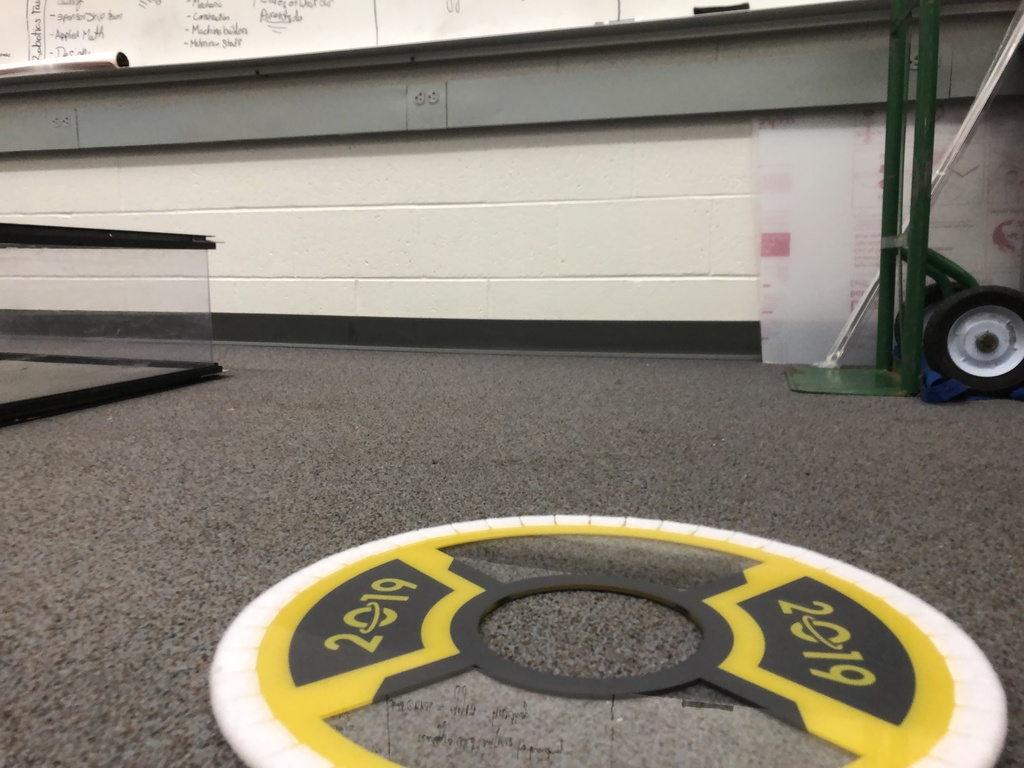hatch_panel: (191, 501, 1024, 766)
